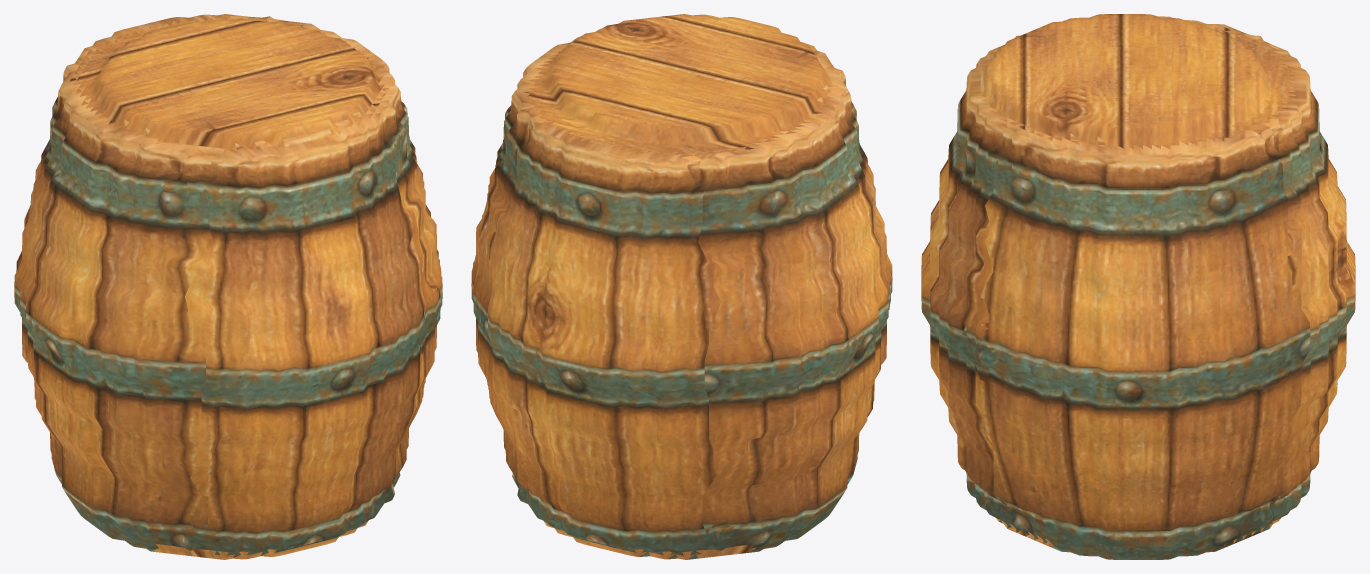
Rendered from barrel.glb.
The picture shows the model from 3 angles, left to right: view 1: azimuth 30°, elevation 25°; view 2: azimuth 150°, elevation 25°; view 3: azimuth 270°, elevation 25°; orthographic projection.
Size of the model in its own units: 0.8763 by 1 by 0.8973.
1 material, 1 textured.
